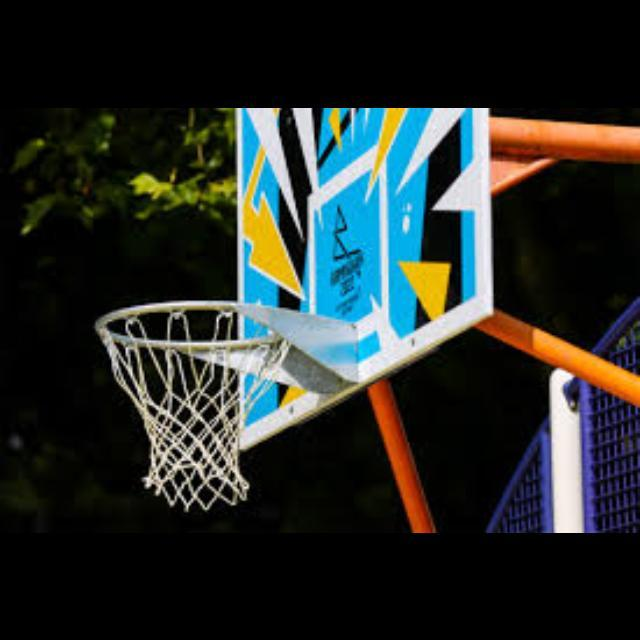rim: (96, 300, 290, 510)
